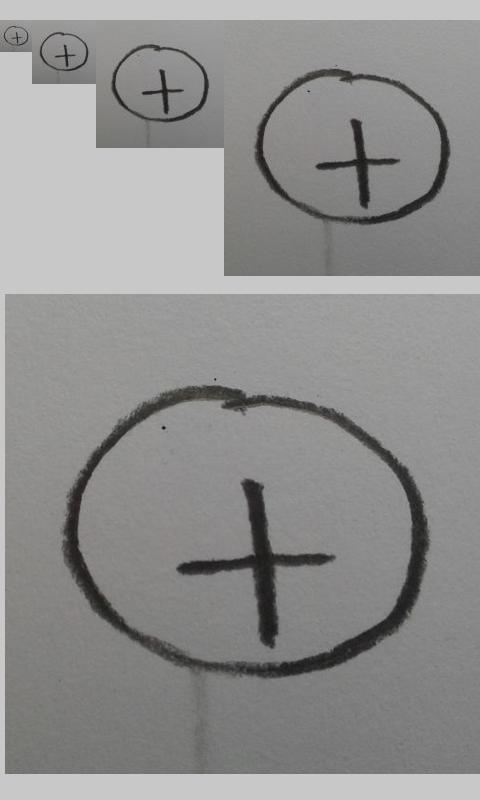button: (64, 381, 431, 681), (255, 67, 451, 225), (111, 44, 209, 123), (39, 31, 90, 72), (3, 25, 29, 47)
